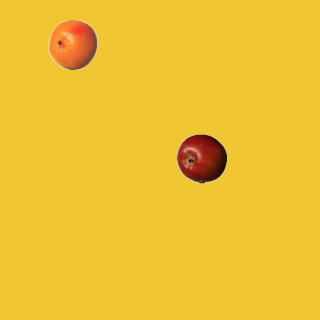Apple Braeburn: (176, 133, 226, 183)
Grapefruit Pink: (47, 19, 97, 69)
